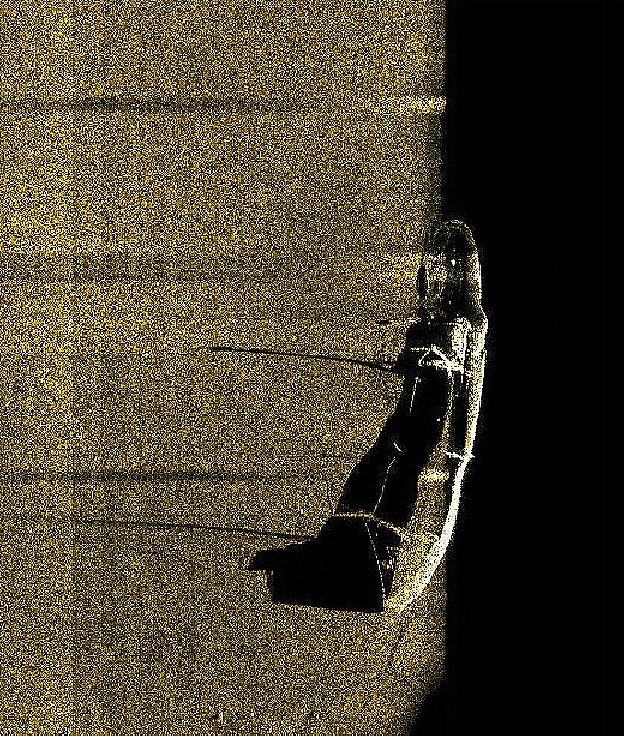ship: (331, 217, 492, 618)
